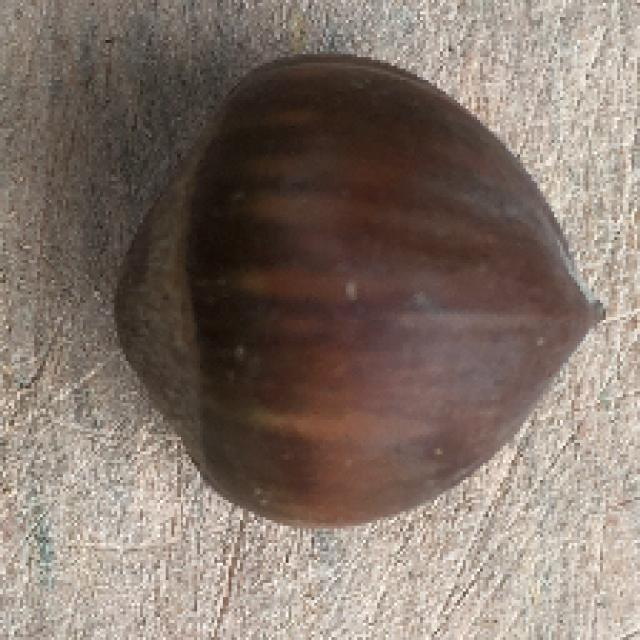damagedHazelnut: (116, 47, 609, 520)
